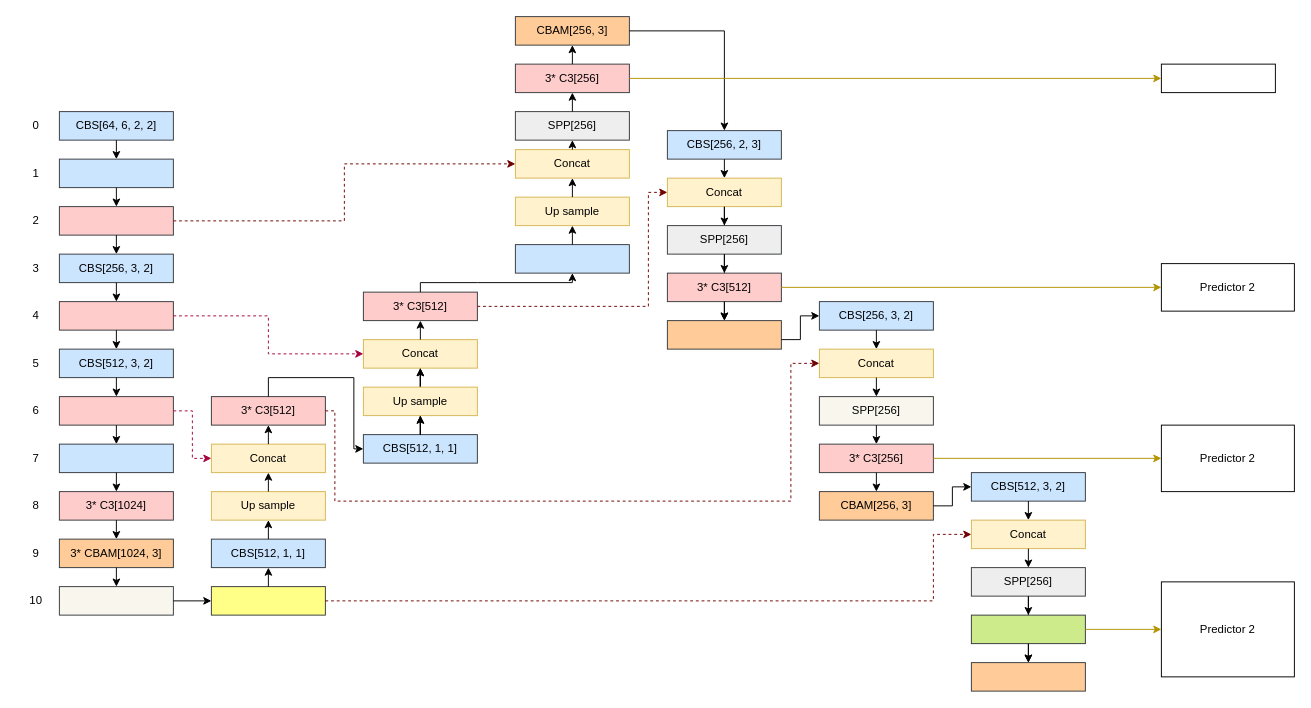
The diagram is 1311 pixels wide and 708 high, and some of its shapes have lost their labels. Each missing label, with the centre of its shape:
"3* C3[128]" goes at point 115,220.
"6* C3[256]" goes at point 115,315.
"9* C3[512]" goes at point 115,410.
"C3TR[1024]" goes at point 1027,629.
"CBAM[1024, 3]" goes at point 1027,676.
"CBAM[512, 3]" goes at point 723,334.
"CBS[1024, 3, 2]" goes at point 115,458.
"CBS[128, 3, 2]" goes at point 115,173.
"CBS[256, 1, 1]" goes at point 571,258.
"Involution[1024, 1, 1]" goes at point 267,600.
"Predictor 1" goes at point 1217,78.
"SPPF[1024, 5]" goes at point 115,600.
